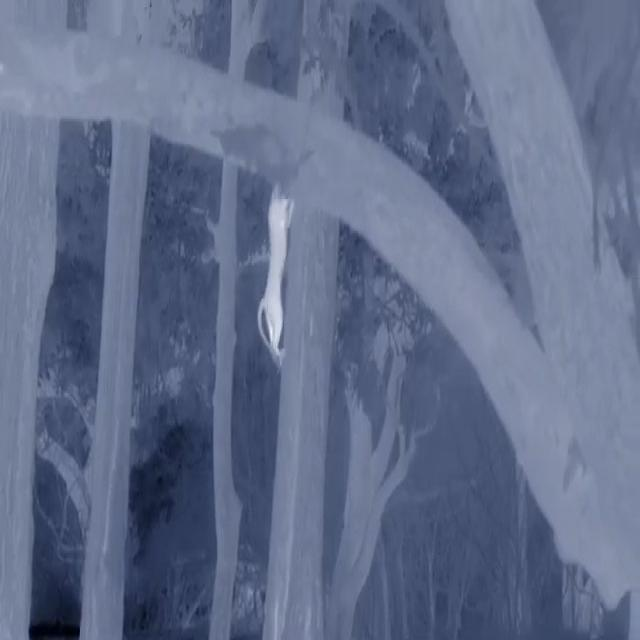animal: (249, 153, 342, 426)
